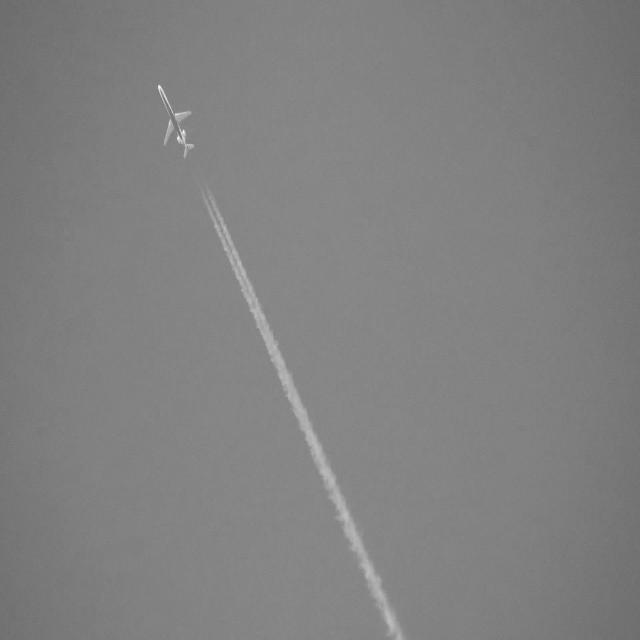aeroplane: (157, 76, 199, 165)
